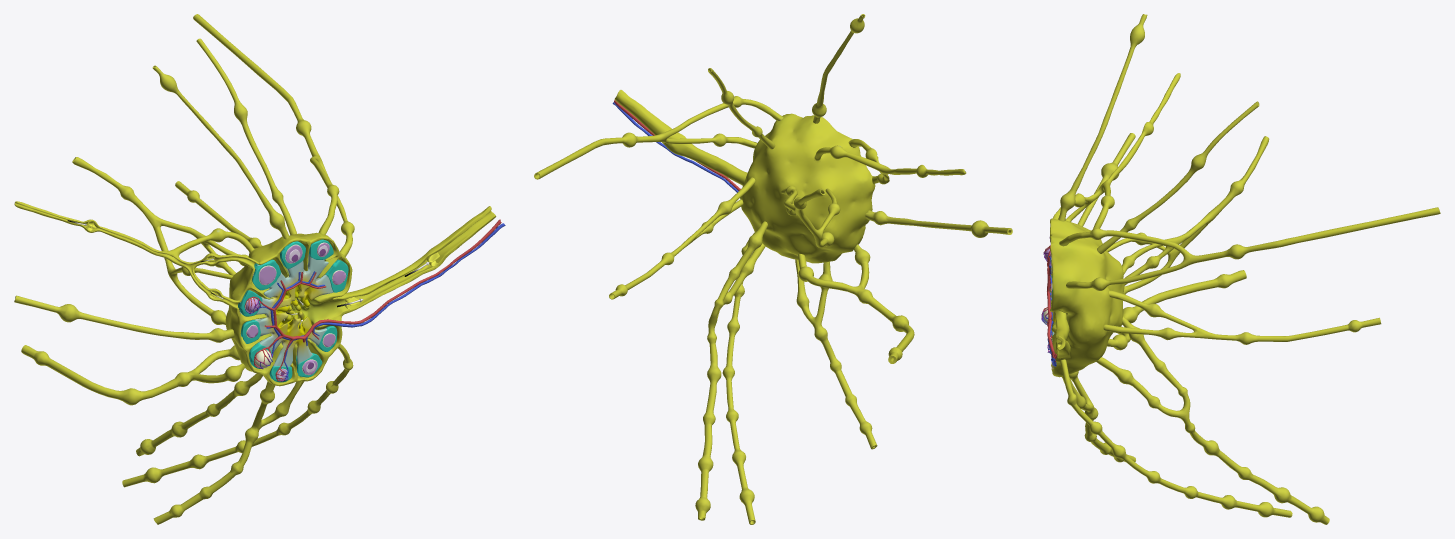
The picture shows the model from 3 angles, left to right: view 1: azimuth 30°, elevation 25°; view 2: azimuth 150°, elevation 25°; view 3: azimuth 270°, elevation 25°; orthographic projection. The views are drawn at different scales.
Parts seen in each view (by area): view 1: PM3D_Sphere3D46, PM3D_Sphere3D56, PM3D_Sphere3D50, PM3D_Sphere3D36, PM3D_Sphere3D63_copy1; view 2: PM3D_Sphere3D46, PM3D_Sphere3D56; view 3: PM3D_Sphere3D46, PM3D_Sphere3D56.
Boxes of the visible parts, x1,y1,x2,y2 form: PM3D_Sphere3D46: (14,14,496,524); PM3D_Sphere3D56: (244,219,505,381); PM3D_Sphere3D50: (238,239,348,382); PM3D_Sphere3D36: (246,243,345,380); PM3D_Sphere3D63_copy1: (245,242,346,379); PM3D_Sphere3D46: (534,14,1012,524); PM3D_Sphere3D56: (612,100,740,192); PM3D_Sphere3D46: (1049,14,1440,524); PM3D_Sphere3D56: (1041,245,1056,366).
Size of the model in its own units: 21.72 by 22.27 by 16.68.
22 materials, 14 textured.
